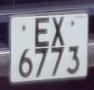3: (66, 43, 84, 79)
6: (17, 46, 36, 82)
7: (48, 44, 67, 81), (32, 46, 51, 81)
E: (32, 15, 52, 50)
X: (50, 14, 68, 50)
